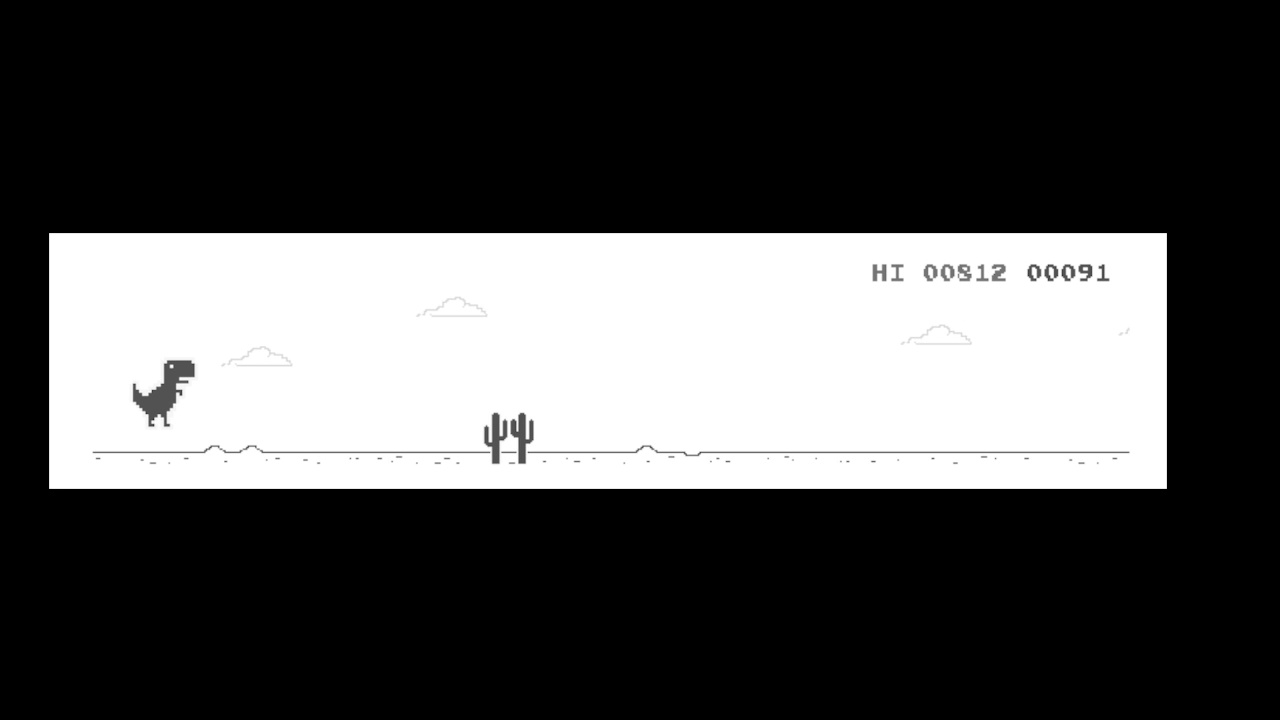dino: (131, 353, 199, 428)
small2: (483, 408, 536, 468)
